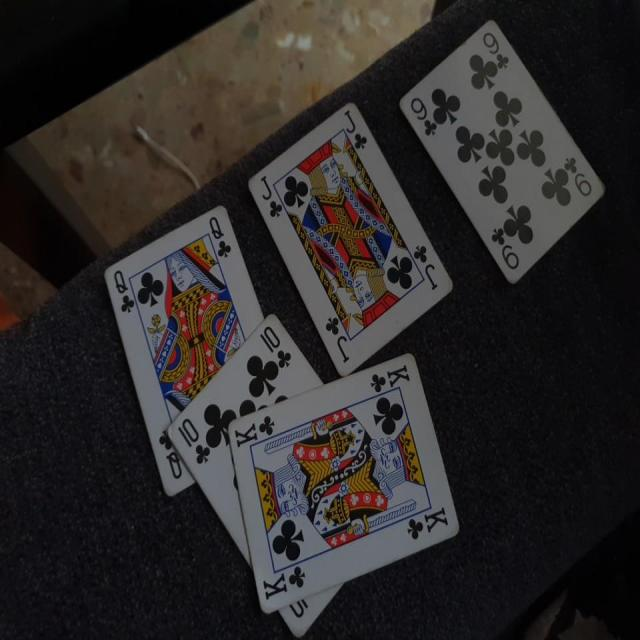10 Trefoils: (168, 312, 345, 637)
9 Trefoils: (398, 18, 606, 285)
J Trefoils: (247, 98, 455, 380)
K Trefoils: (227, 351, 460, 613)
Q Trefoils: (103, 201, 264, 497)
